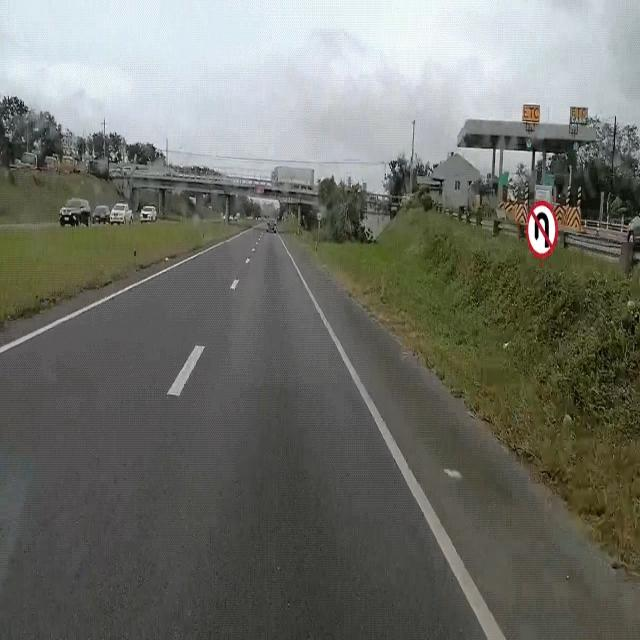Demi-Tour-Interdit: (522, 196, 560, 262)
